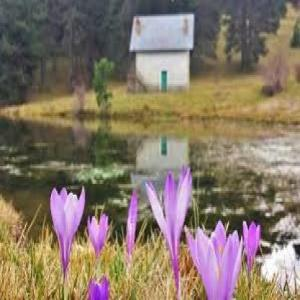Saffron: (143, 167, 193, 257), (196, 229, 240, 300), (50, 185, 85, 259), (86, 214, 110, 258), (241, 221, 262, 271), (125, 191, 136, 262)
